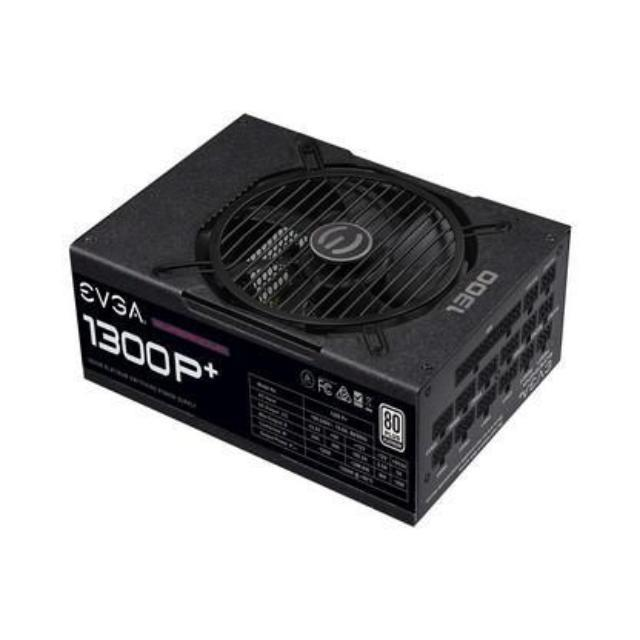PSU: (52, 104, 590, 544)
